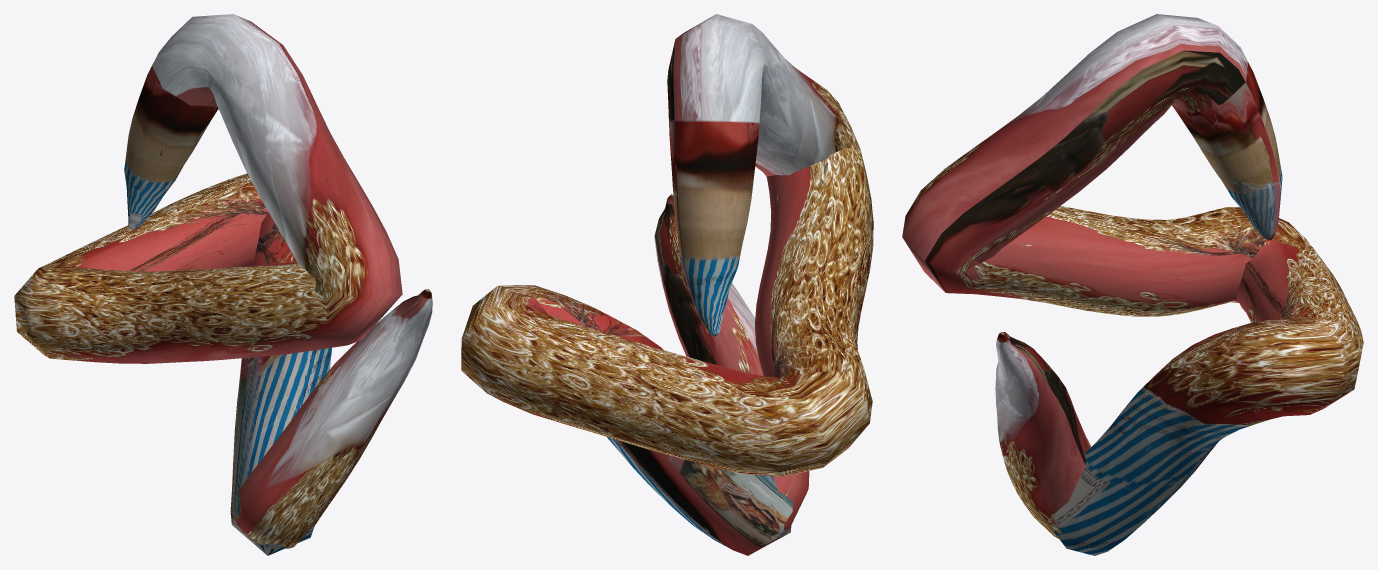
3 renders of one model, left to right at view 1: azimuth 30°, elevation 25°; view 2: azimuth 150°, elevation 25°; view 3: azimuth 270°, elevation 25°, orthographic. The views are drawn at different scales.
Visible parts, largest first — view 1: Toon_geo; view 2: Toon_geo; view 3: Toon_geo.
Part boxes in pixels (<box>): Toon_geo: <box>14,14,432,555</box>; Toon_geo: <box>461,14,873,555</box>; Toon_geo: <box>902,14,1363,555</box>.
Bounding box in the file's own units: 100 × 146 × 116.
